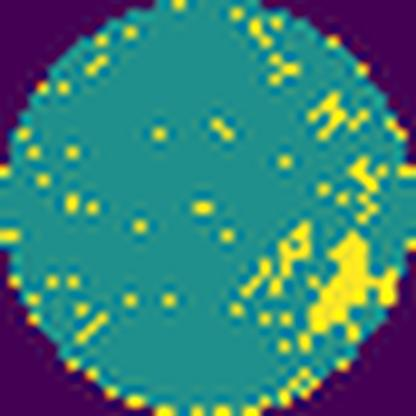Loc: (302, 230, 393, 347), (268, 215, 308, 294)
